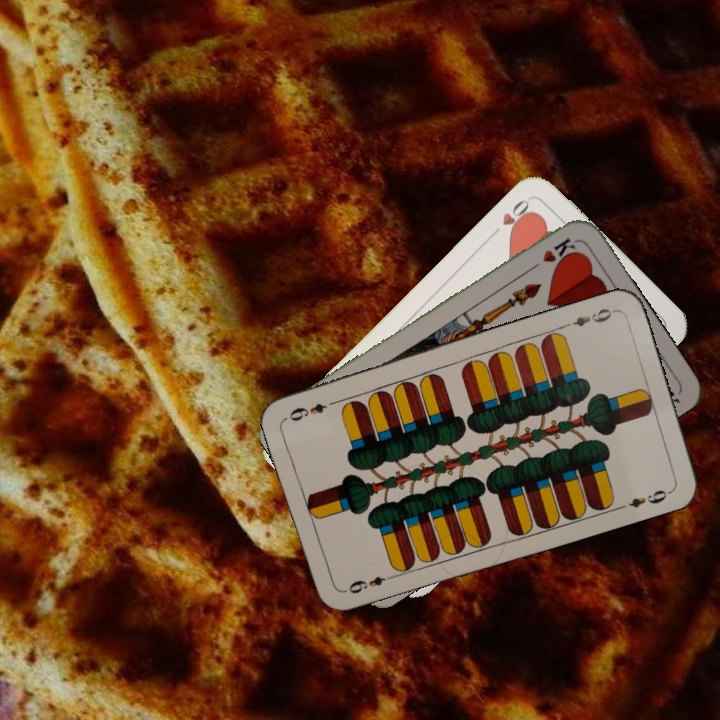E9: (560, 304, 618, 330), (344, 571, 397, 597)
HK: (524, 234, 578, 274)
HO: (487, 195, 536, 240)
